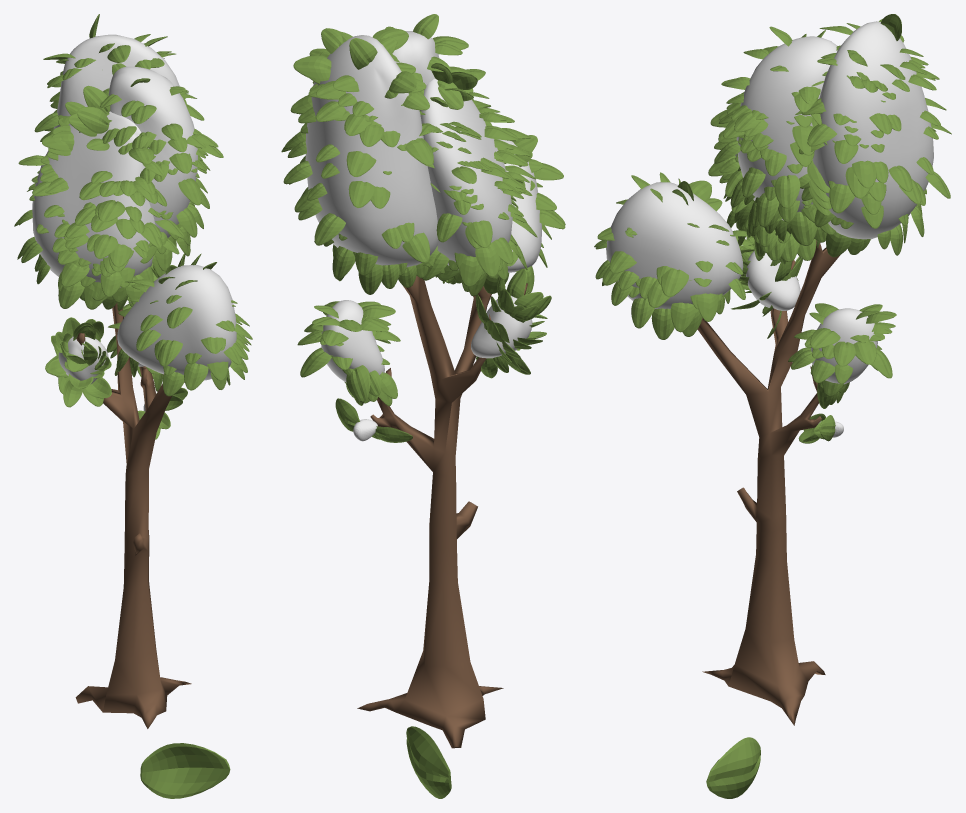
File: Tree_Small.fbx
3 views of the same model, side by side, from view 1: azimuth 30°, elevation 25°; view 2: azimuth 150°, elevation 25°; view 3: azimuth 270°, elevation 25° (orthographic). The views are drawn at different scales.
Visible parts, largest first — view 1: Sphere.007, Cube.062, Plane.004, Sphere.007|Plane.004|Dupli|850, Sphere.007|Plane.004|Dupli|124, Sphere.007|Plane.004|Dupli|801, Sphere.007|Plane.004|Dupli|790, Sphere.007|Plane.004|Dupli|808, Sphere.007|Plane.004|Dupli|784, Sphere.007|Plane.004|Dupli|891, Sphere.007|Plane.004|Dupli|142; view 2: Sphere.007, Cube.062, Plane.004, Sphere.007|Plane.004|Dupli|304, Sphere.007|Plane.004|Dupli|1078, Sphere.007|Plane.004|Dupli|250, Sphere.007|Plane.004|Dupli|333, Sphere.007|Plane.004|Dupli|856, Sphere.007|Plane.004|Dupli|508, Sphere.007|Plane.004|Dupli|543, Sphere.007|Plane.004|Dupli|544, Sphere.007|Plane.004|Dupli|256 (+5 smaller); view 3: Sphere.007, Cube.062, Plane.004, Sphere.007|Plane.004|Dupli|628.
Part boxes in pixels (left/top/right/bottom): Sphere.007: left=32, top=34, right=236, bottom=411; Cube.062: left=75, top=302, right=191, bottom=728; Plane.004: left=140, top=743, right=230, bottom=798; Sphere.007|Plane.004|Dupli|850: left=76, top=106, right=109, bottom=133; Sphere.007|Plane.004|Dupli|124: left=184, top=363, right=208, bottom=390; Sphere.007|Plane.004|Dupli|801: left=61, top=262, right=89, bottom=287; Sphere.007|Plane.004|Dupli|790: left=97, top=200, right=125, bottom=222; Sphere.007|Plane.004|Dupli|808: left=58, top=281, right=84, bottom=308; Sphere.007|Plane.004|Dupli|784: left=93, top=234, right=117, bottom=258; Sphere.007|Plane.004|Dupli|891: left=83, top=85, right=110, bottom=113; Sphere.007|Plane.004|Dupli|142: left=158, top=340, right=182, bottom=366; Sphere.007: left=305, top=31, right=541, bottom=441; Cube.062: left=357, top=275, right=527, bottom=748; Plane.004: left=406, top=726, right=451, bottom=798; Sphere.007|Plane.004|Dupli|304: left=293, top=55, right=331, bottom=81; Sphere.007|Plane.004|Dupli|1078: left=346, top=365, right=370, bottom=401; Sphere.007|Plane.004|Dupli|250: left=314, top=213, right=345, bottom=245; Sphere.007|Plane.004|Dupli|333: left=349, top=38, right=377, bottom=69; Sphere.007|Plane.004|Dupli|856: left=475, top=242, right=500, bottom=276; Sphere.007|Plane.004|Dupli|508: left=402, top=232, right=430, bottom=262; Sphere.007|Plane.004|Dupli|543: left=346, top=151, right=376, bottom=176; Sphere.007|Plane.004|Dupli|544: left=348, top=181, right=375, bottom=207; Sphere.007|Plane.004|Dupli|256: left=332, top=246, right=355, bottom=279; Sphere.007: left=606, top=21, right=933, bottom=437; Cube.062: left=697, top=240, right=840, bottom=725; Plane.004: left=706, top=737, right=760, bottom=798; Sphere.007|Plane.004|Dupli|628: left=774, top=175, right=800, bottom=208.
Size of the model in its own units: 797 by 2907 by 1209.
